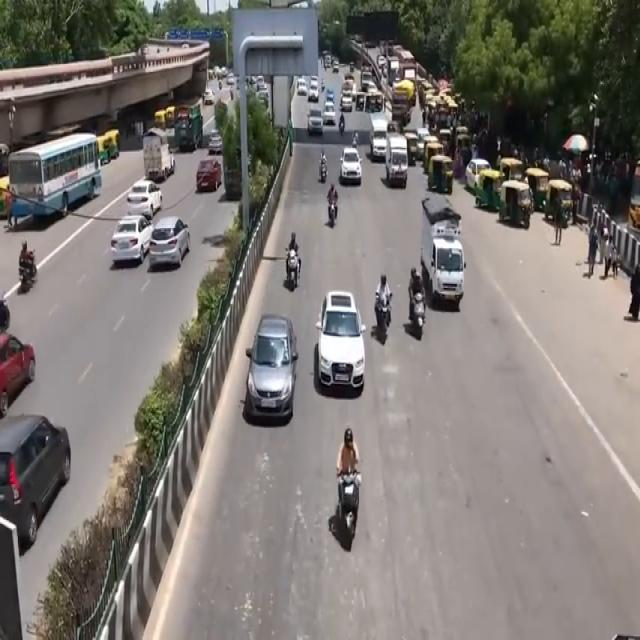BUS: (10, 131, 106, 227)
MOTORCYCLE: (339, 470, 363, 550), (411, 286, 427, 338), (378, 295, 392, 347), (288, 254, 299, 292), (328, 198, 337, 228)
SED: (251, 314, 297, 424)
SUV: (319, 290, 368, 396)
TRUCK: (422, 200, 466, 313), (143, 132, 175, 182), (386, 136, 408, 189)
